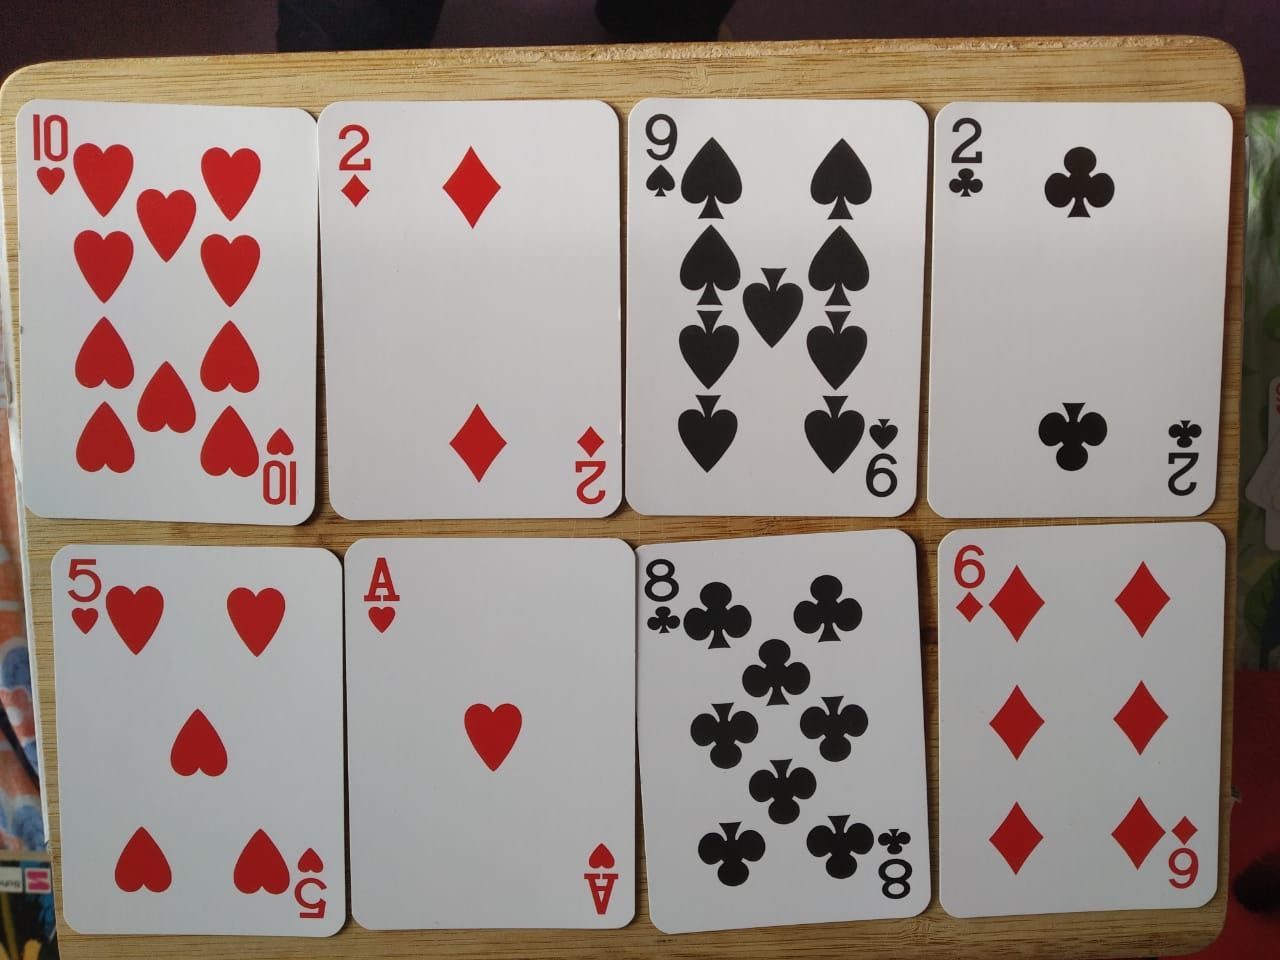ace: (324, 524, 646, 946)
eight: (619, 533, 941, 942)
five: (27, 528, 359, 960)
nine: (620, 77, 939, 530)
six: (917, 518, 1236, 917)
ten: (5, 87, 329, 531)
two: (917, 64, 1254, 528), (317, 78, 629, 530)
